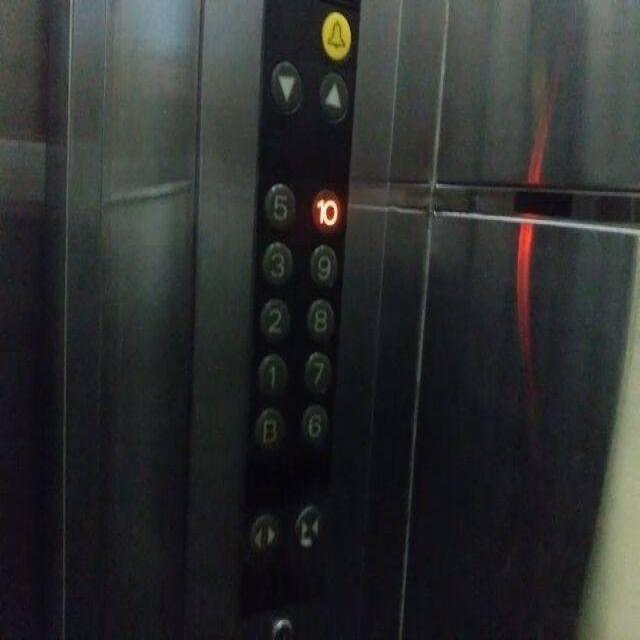1: (255, 351, 288, 397)
10: (311, 188, 342, 233)
2: (257, 297, 291, 344)
3: (258, 240, 293, 287)
5: (262, 181, 295, 228)
6: (299, 403, 328, 444)
7: (303, 349, 331, 394)
8: (304, 296, 335, 340)
9: (306, 241, 337, 287)
B: (253, 407, 284, 449)
alarm: (318, 8, 352, 60)
close: (293, 502, 323, 550)
down: (267, 59, 304, 114)
open: (248, 512, 280, 557)
up: (313, 69, 349, 123)
